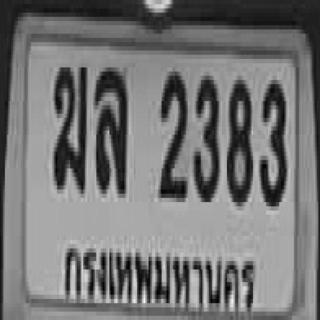A06: (51, 61, 86, 187)
A36: (93, 63, 126, 189)
N02: (158, 68, 185, 198)
N03: (258, 76, 286, 202), (192, 72, 218, 198)
N08: (225, 76, 251, 202)
P04: (60, 235, 259, 320)
